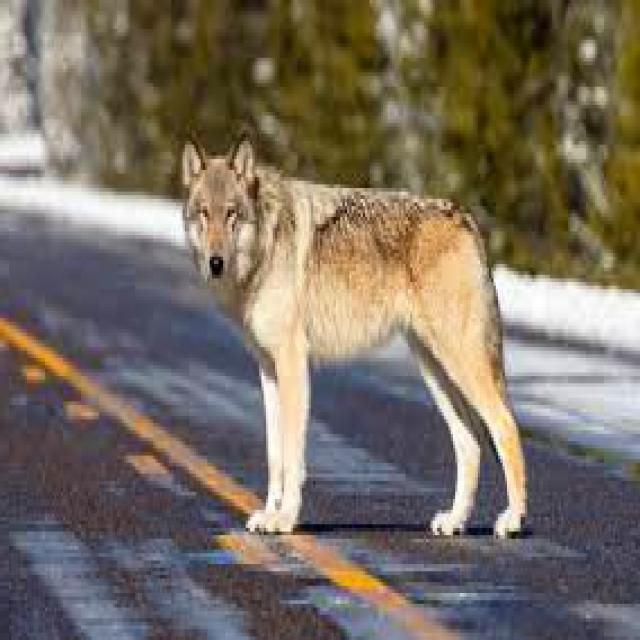wolf: (183, 130, 525, 535)
